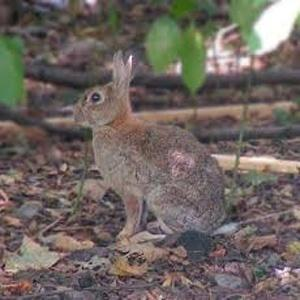rabbit: (74, 52, 227, 254)
